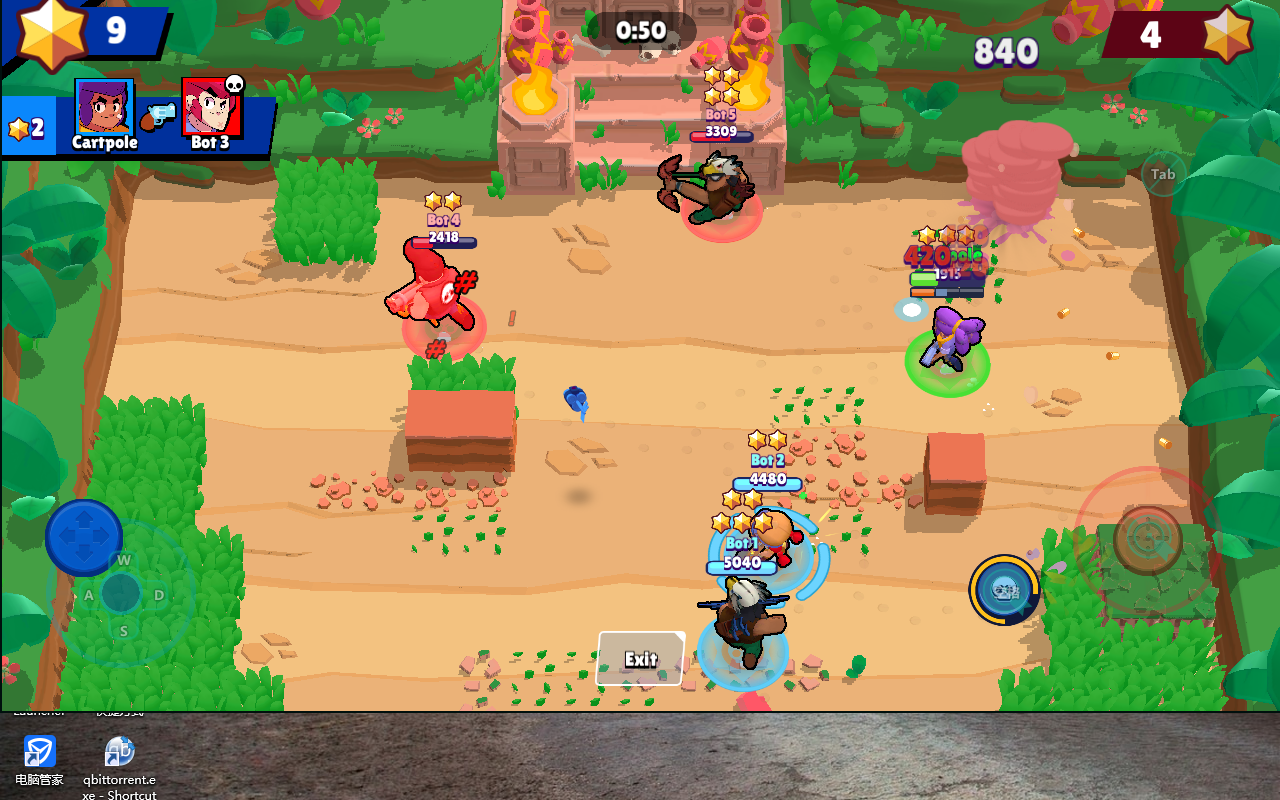current_player: (904, 333, 991, 399)
